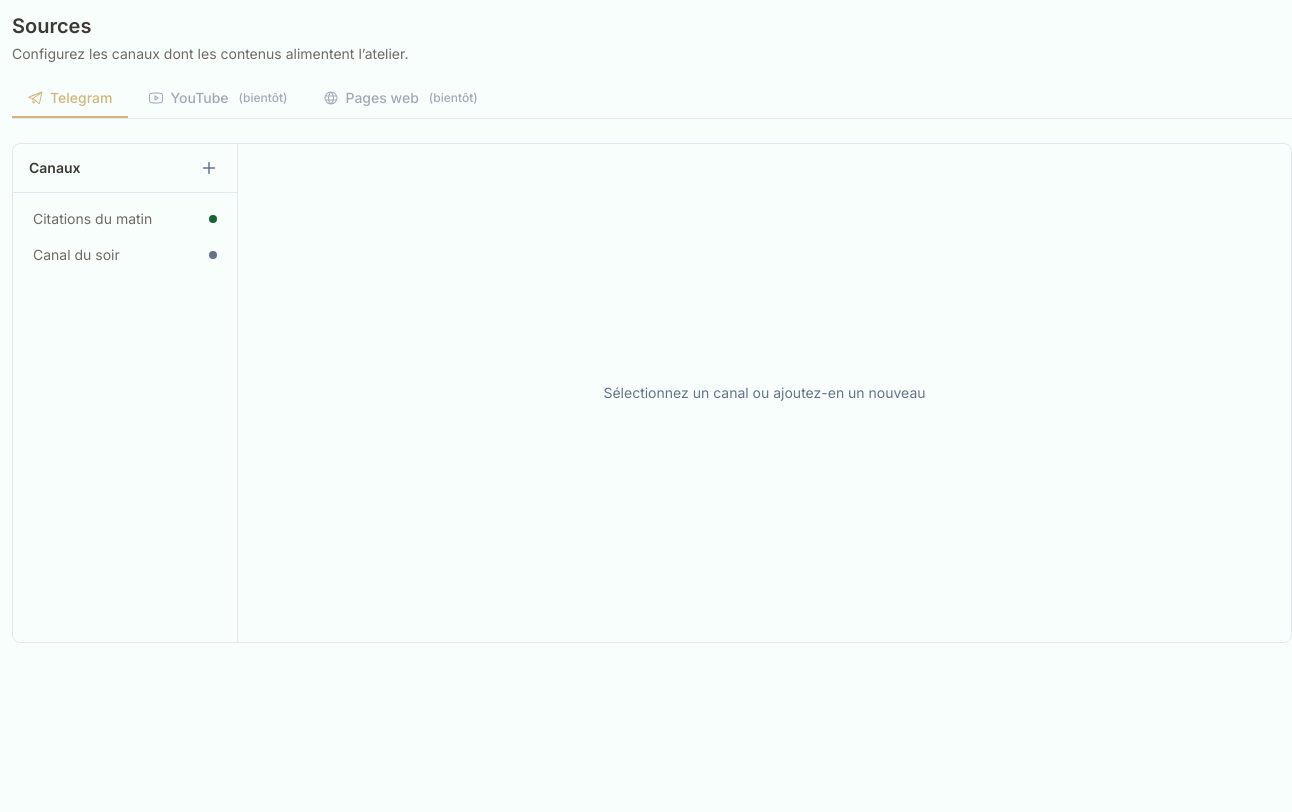
Test: SourcesPage › refuse la création si le nom et le chat_id sont vides
Click the button named "Ajouter un canal Telegram" at (209, 168), box [197,156,221,180]
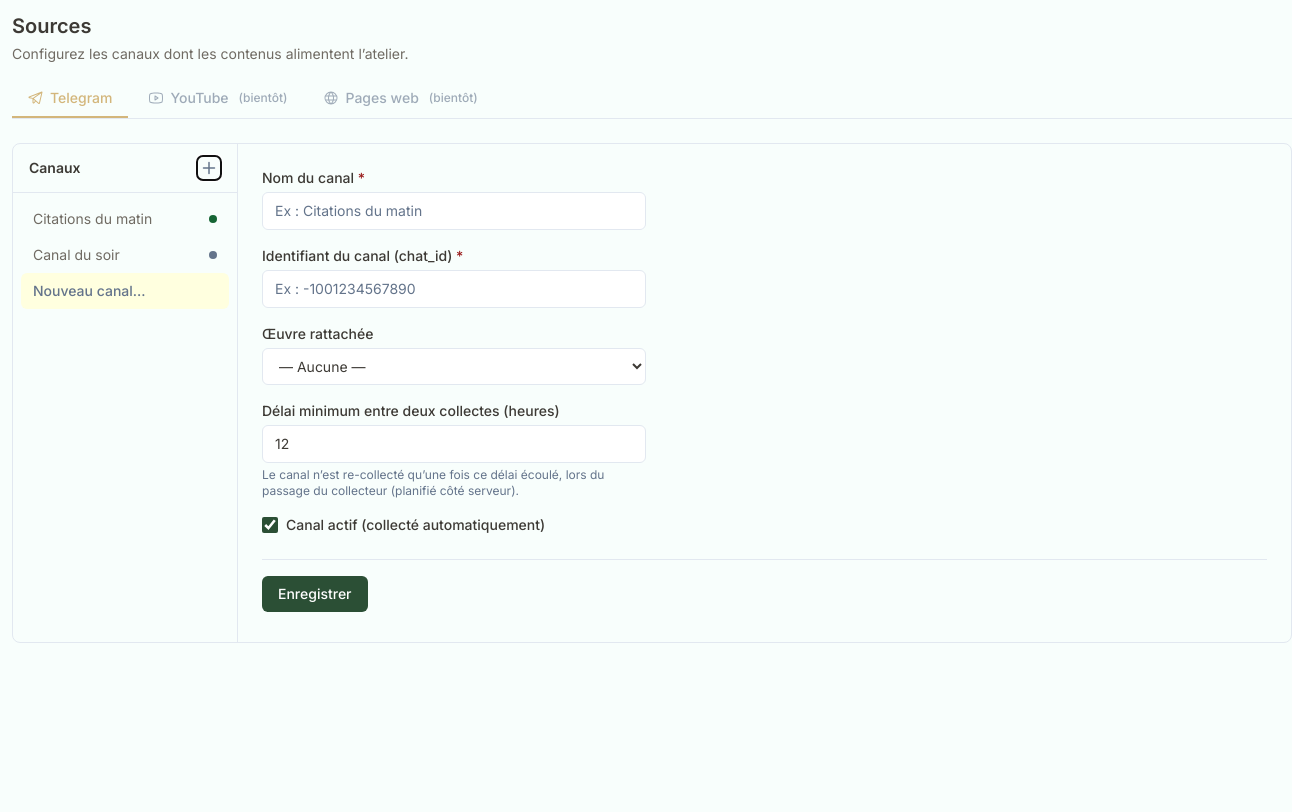
Click the button "Enregistrer" at (315, 594), box [262,576,368,612]
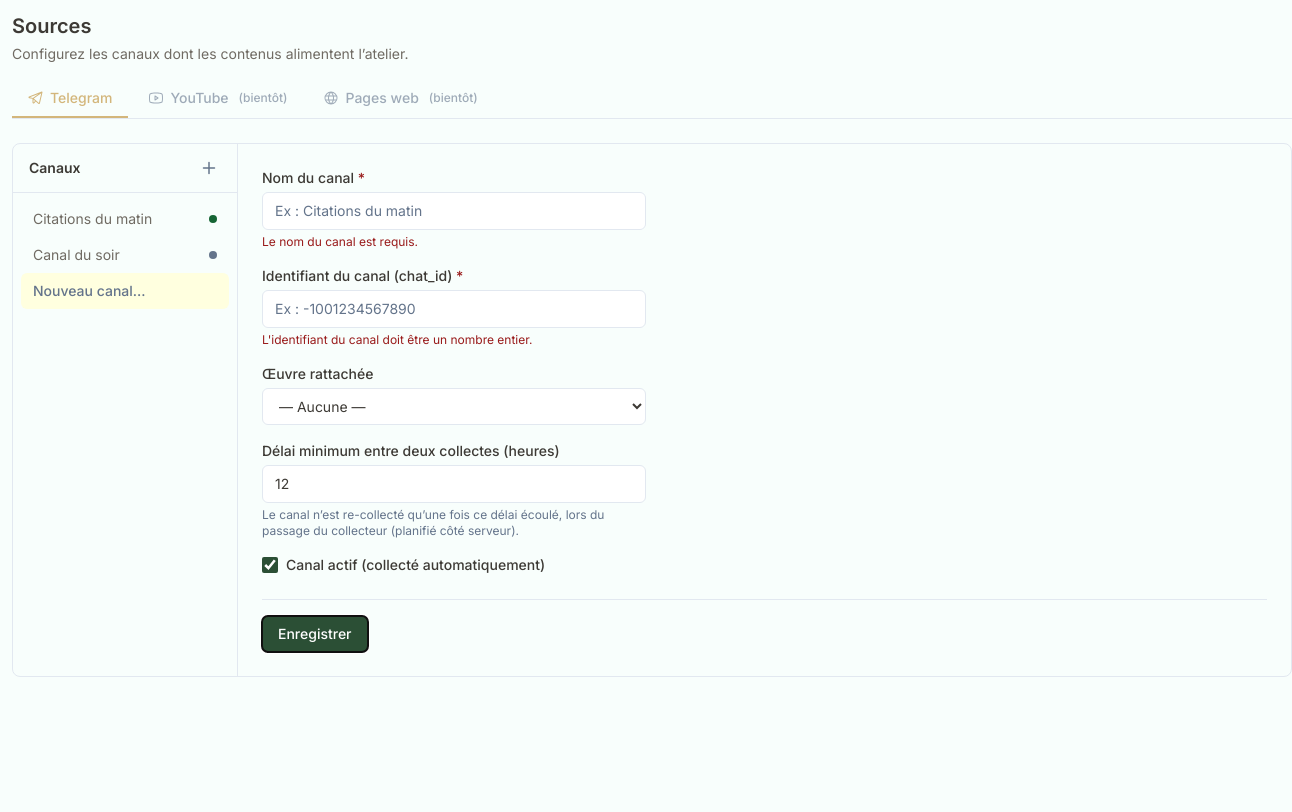
Expected: the text "Le nom du canal est requis." is shown, [262,234,418,249]
